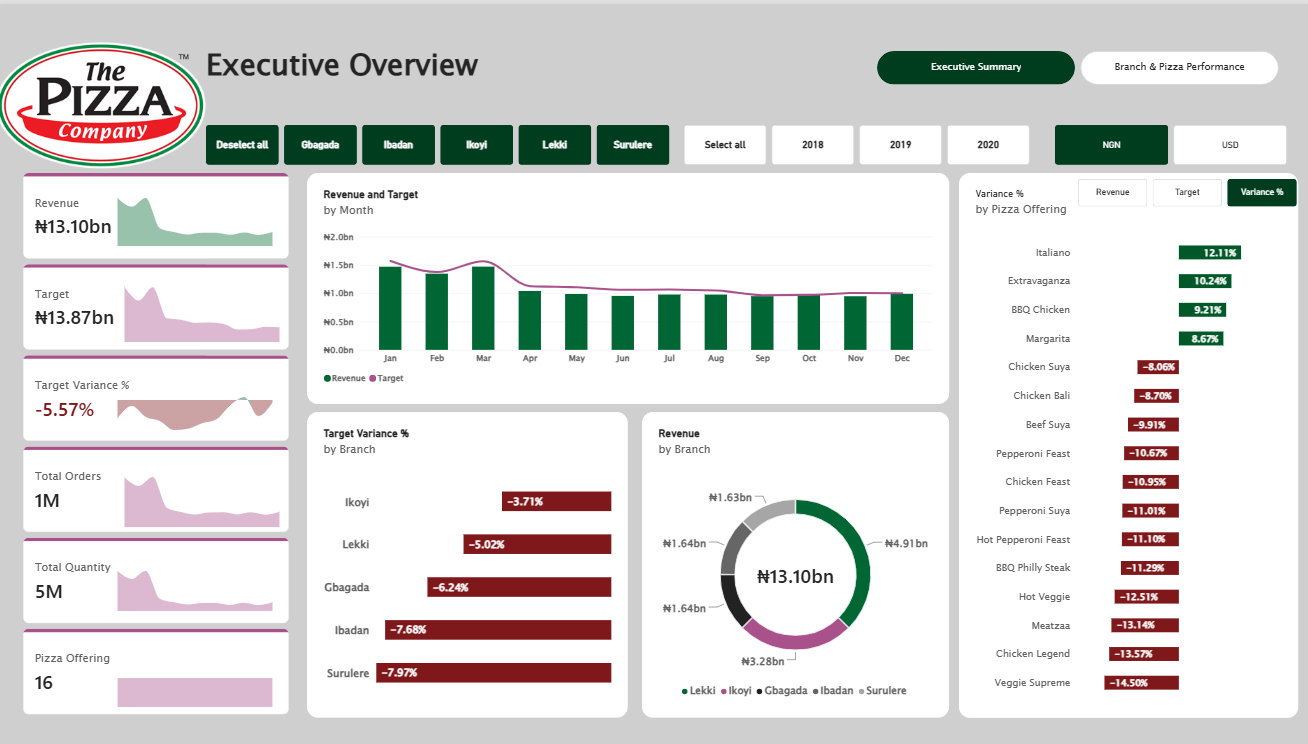

What the dashboard file says about the page in this screenshot:
{"tool":"powerbi","page":{"name":"Executive Summary","canvas":[1920,1080],"ordinal":0},"visuals":[{"type":"advancedSlicerVisual","fields":{"Values":["Currency.Currency"]},"box":[1545,176.5,339.9,58.4],"z":0},{"type":"cardVisual","fields":{"Data":["_Measures.Revenue","_Measures.Target","_Measures.Target Variance %","_Measures.Total Orders","_Measures.Total Quantity","_Measures.Pizza Offering"]},"box":[39.4,246.6,388.1,795.1],"z":1000},{"type":"areaChart","fields":{"Category":["Calendar.Month"],"Y":["_Measures.Revenue"]},"box":[153.2,246.6,274.3,122.6],"z":2000},{"type":"areaChart","fields":{"Category":["Calendar.Month"],"Y":["_Measures.Target"]},"box":[163.4,386.6,274.3,122.6],"z":3000},{"type":"image","box":[0,0,306.4,296.2],"z":4000},{"type":"lineClusteredColumnComboChart","fields":{"Category":["Calendar.Month"],"Y":["_Measures.Revenue"],"Y2":["_Measures.Target"]},"box":[453.7,246.6,936.7,337],"z":5000},{"type":"clusteredBarChart","fields":{"Category":["DimBranch.Branch"],"Y":["_Measures.Target Variance %"]},"box":[453.7,595.3,468.3,446.4],"z":6000},{"type":"donutChart","fields":{"Category":["DimBranch.Branch"],"Y":["_Measures.Revenue"]},"box":[942.5,595.3,447.9,446.4],"z":7000},{"type":"advancedSlicerVisual","fields":{"Values":["DimBranch.Branch"]},"box":[306.4,176.5,678.4,58.4],"z":8000},{"type":"advancedSlicerVisual","fields":{"Values":["Calendar.Year"]},"box":[1003.8,176.5,504.8,58.4],"z":9000},{"type":"clusteredBarChart","fields":{"Category":["DimPizza.Pizza Offering"],"Y":["_Measures.Target Variance %"]},"box":[1405,246.6,494.6,795.1],"z":10000},{"type":"advancedSlicerVisual","fields":{"Values":["Metric.Metric"]},"box":[1578.6,255.3,321,40.9],"z":11000},{"type":"areaChart","fields":{"Category":["Calendar.Month"],"Y":["_Measures.Target Variance %"]},"box":[153.2,534,274.3,122.6],"z":12000},{"type":"areaChart","fields":{"Category":["Calendar.Month"],"Y":["_Measures.Total Orders"]},"box":[163.4,656.5,274.3,122.6],"z":13000},{"type":"areaChart","fields":{"Category":["Calendar.Month"],"Y":["_Measures.Total Quantity"]},"box":[153.2,779.1,274.3,122.6],"z":14000},{"type":"areaChart","fields":{"Category":["Calendar.Month"],"Y":["_Measures.Pizza Offering"]},"box":[153.2,919.1,274.3,122.6],"z":15000},{"type":"pageNavigator","box":[1285.3,68.6,586.5,49.6],"z":16000},{"type":"textbox","box":[306.4,56.9,462.5,71.5],"z":17000}]}

Visuals, with their boxes in screenshot pixels (x1, y1, x2, y2), scaled from the page's 1920x1080 canvas onto the 1308x744 screenshot:
advancedSlicerVisual - Currency.Currency: {"x1": 1053, "y1": 122, "x2": 1284, "y2": 162}
cardVisual - _Measures.Revenue x _Measures.Target: {"x1": 27, "y1": 170, "x2": 291, "y2": 718}
areaChart - Calendar.Month x _Measures.Revenue: {"x1": 104, "y1": 170, "x2": 291, "y2": 254}
areaChart - Calendar.Month x _Measures.Target: {"x1": 111, "y1": 266, "x2": 298, "y2": 351}
image: {"x1": 0, "y1": 0, "x2": 209, "y2": 204}
lineClusteredColumnComboChart - Calendar.Month x _Measures.Revenue: {"x1": 309, "y1": 170, "x2": 947, "y2": 402}
clusteredBarChart - DimBranch.Branch x _Measures.Target Variance %: {"x1": 309, "y1": 410, "x2": 628, "y2": 718}
donutChart - DimBranch.Branch x _Measures.Revenue: {"x1": 642, "y1": 410, "x2": 947, "y2": 718}
advancedSlicerVisual - DimBranch.Branch: {"x1": 209, "y1": 122, "x2": 671, "y2": 162}
advancedSlicerVisual - Calendar.Year: {"x1": 684, "y1": 122, "x2": 1028, "y2": 162}
clusteredBarChart - DimPizza.Pizza Offering x _Measures.Target Variance %: {"x1": 957, "y1": 170, "x2": 1294, "y2": 718}
advancedSlicerVisual - Metric.Metric: {"x1": 1075, "y1": 176, "x2": 1294, "y2": 204}
areaChart - Calendar.Month x _Measures.Target Variance %: {"x1": 104, "y1": 368, "x2": 291, "y2": 452}
areaChart - Calendar.Month x _Measures.Total Orders: {"x1": 111, "y1": 452, "x2": 298, "y2": 537}
areaChart - Calendar.Month x _Measures.Total Quantity: {"x1": 104, "y1": 537, "x2": 291, "y2": 621}
areaChart - Calendar.Month x _Measures.Pizza Offering: {"x1": 104, "y1": 633, "x2": 291, "y2": 718}
pageNavigator: {"x1": 876, "y1": 47, "x2": 1275, "y2": 81}
textbox: {"x1": 209, "y1": 39, "x2": 524, "y2": 88}
